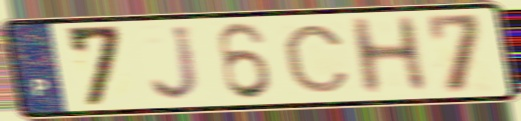6: (215, 20, 276, 103)
7: (62, 24, 126, 110), (425, 12, 489, 96)
C: (280, 23, 355, 95)
H: (344, 13, 433, 99)
J: (148, 23, 206, 104)
